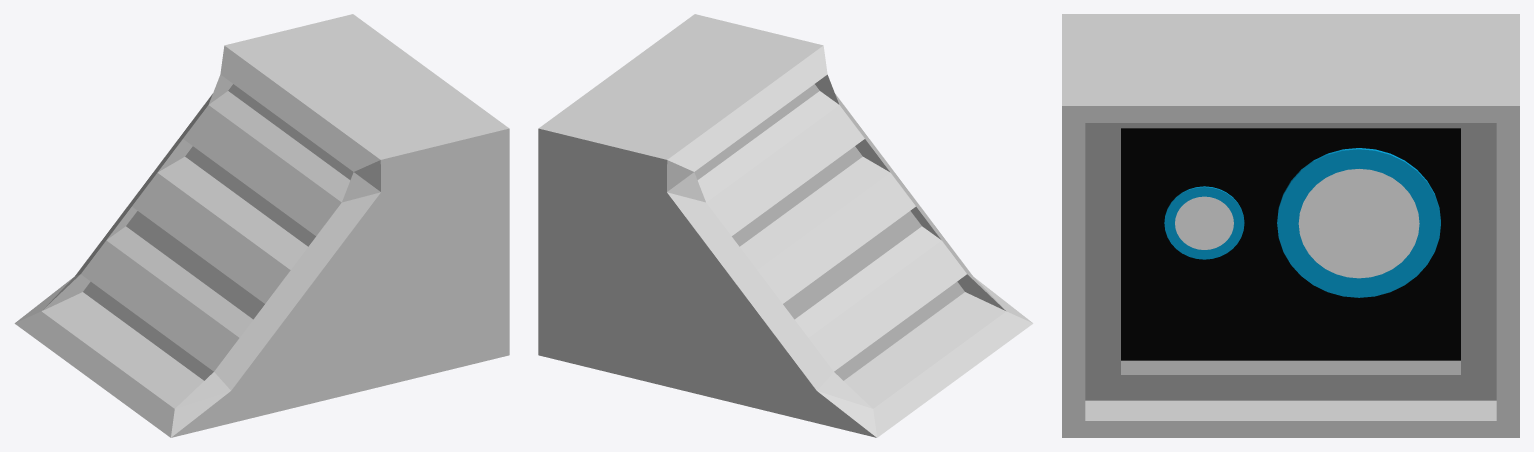
File: patrol_head.dae
3 renders of one model, left to right at view 1: azimuth 30°, elevation 25°; view 2: azimuth 150°, elevation 25°; view 3: azimuth 270°, elevation 25°, orthographic. The views are drawn at different scales.
Visible parts, largest first — view 1: Head; view 2: Head; view 3: Head.
Boxes of the visible parts, x1,y1,x2,y2 form: Head: [14, 14, 509, 437]; Head: [538, 14, 1033, 437]; Head: [1062, 14, 1519, 437].
Size of the model in its own units: 0.5 by 0.4 by 0.32.
